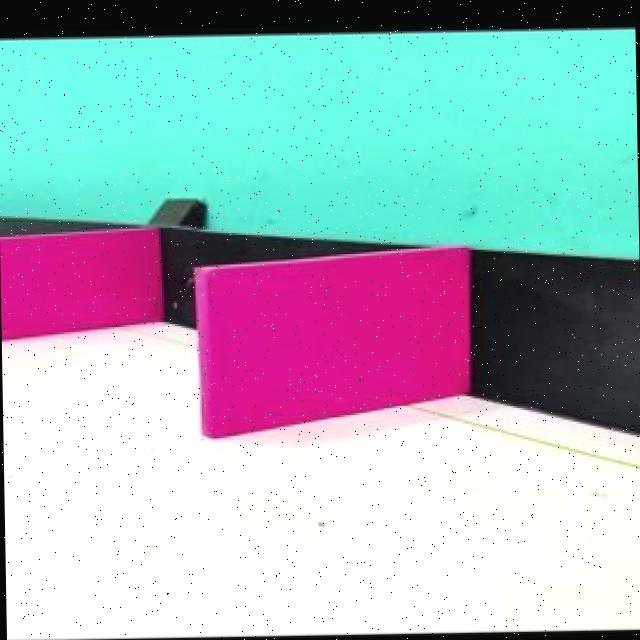xparking: (202, 270, 454, 426), (15, 238, 149, 332)
